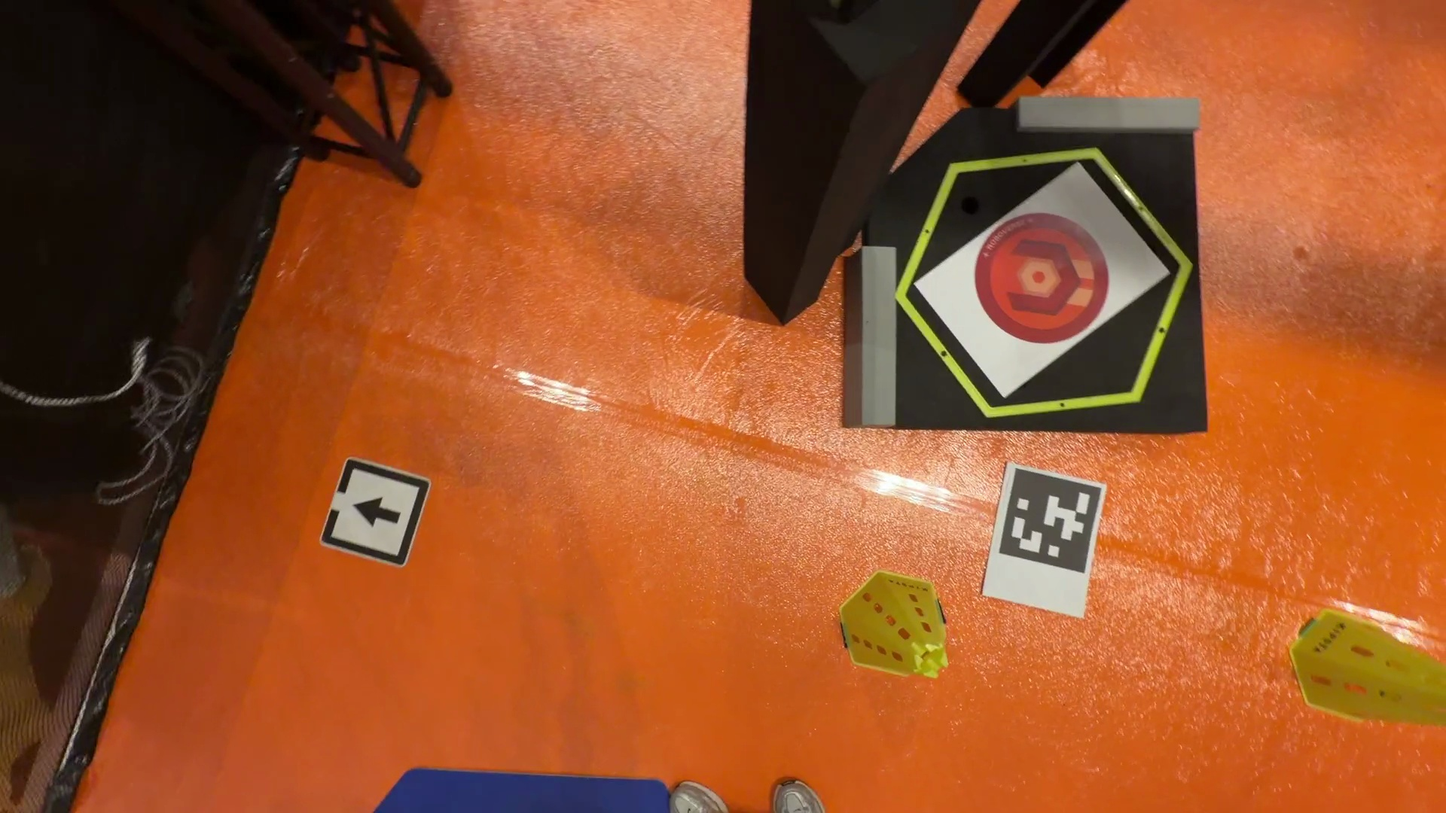landing_pad: (975, 213, 1110, 340)
